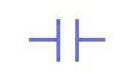Capacitor: (44, 16, 87, 63)
